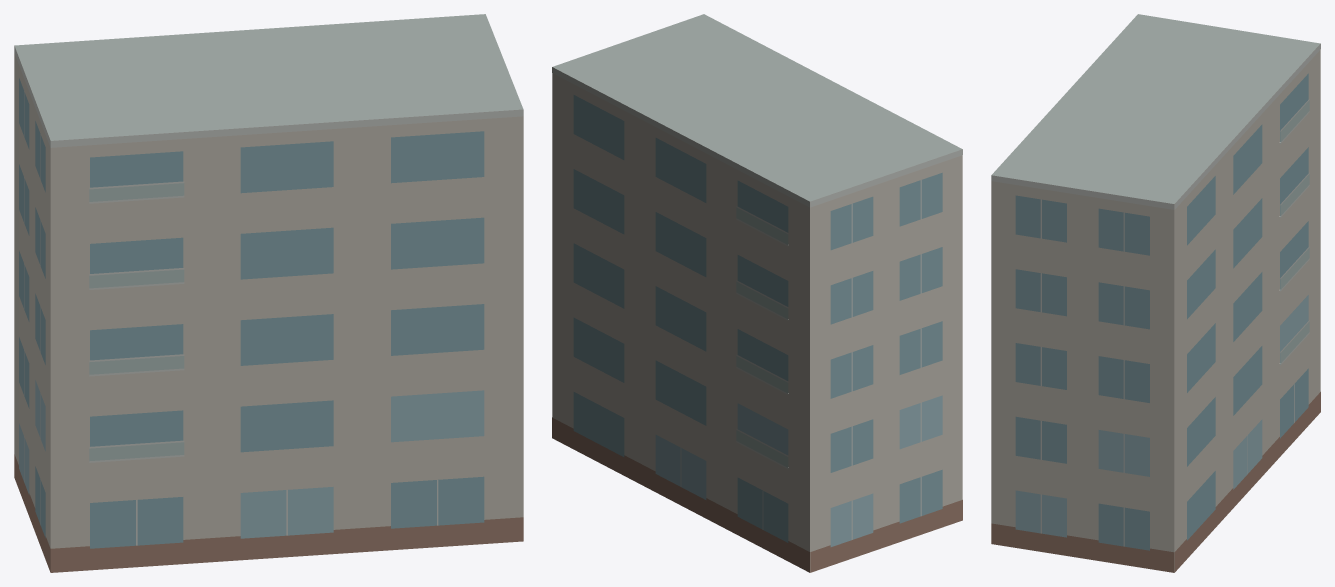
Rendered from survey-upis-32880891.glb.
3 renders of one model, left to right at view 1: azimuth 30°, elevation 25°; view 2: azimuth 150°, elevation 25°; view 3: azimuth 270°, elevation 25°, orthographic. The views are drawn at different scales.
Visible parts, largest first — view 1: survey-upis-32880891.tmp; view 2: survey-upis-32880891.tmp; view 3: survey-upis-32880891.tmp.
Part boxes in pixels (box(x1,y1,x2,y2)): survey-upis-32880891.tmp: box(14, 14, 523, 572); survey-upis-32880891.tmp: box(552, 14, 962, 572); survey-upis-32880891.tmp: box(991, 14, 1320, 572).
Size of the model in its own units: 16.87 by 15.25 by 12.36.
